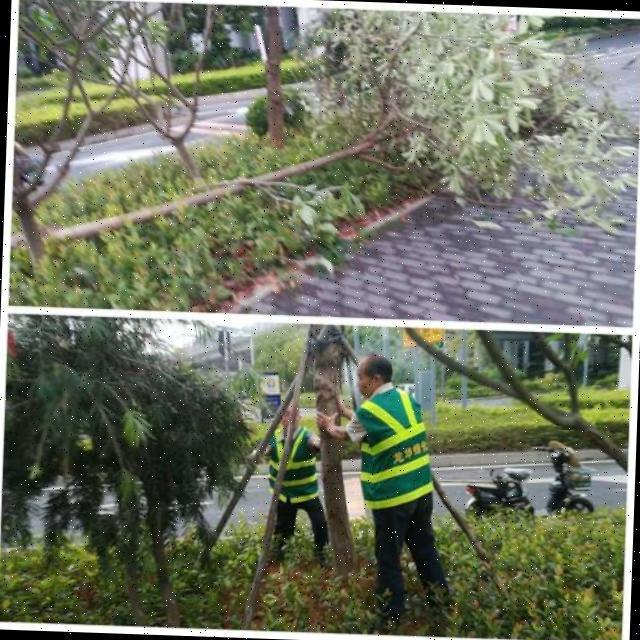fallen_object: (9, 0, 634, 278)
